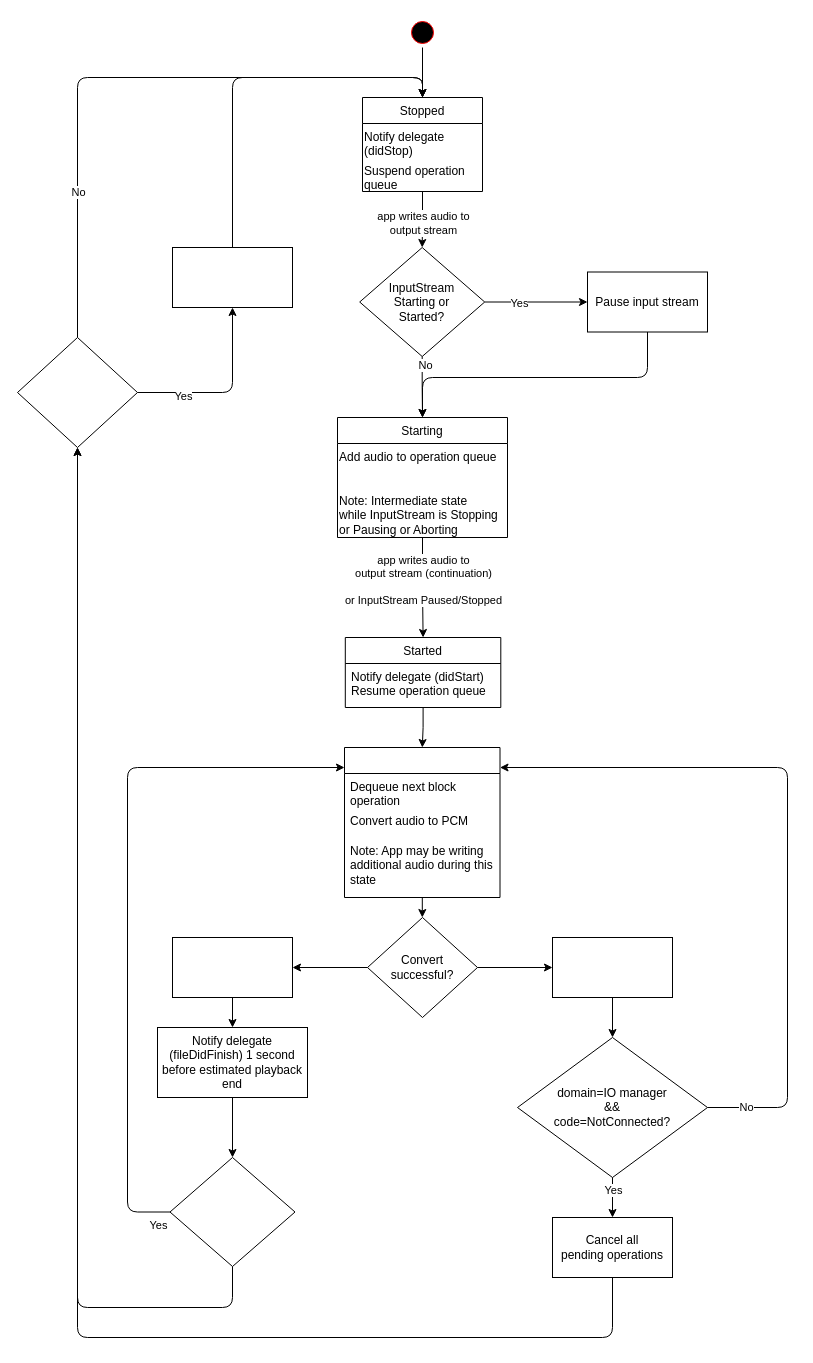
Image size: 813x1363. Some labels were removed from this diagram. Each missing label, with the centre of its shape:
InputStream Paused?: the point at 77,392
Notify delegate (errorDidOccur): the point at 612,967
Operation queue empty?: the point at 232,1211
Send PCM data to audio manager: the point at 232,967
Start input stream: the point at 232,277
